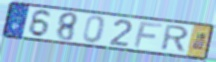0: (81, 15, 107, 45)
2: (107, 19, 134, 48)
6: (27, 9, 52, 39)
8: (54, 12, 80, 42)
F: (132, 21, 165, 49)
R: (158, 24, 191, 54)
